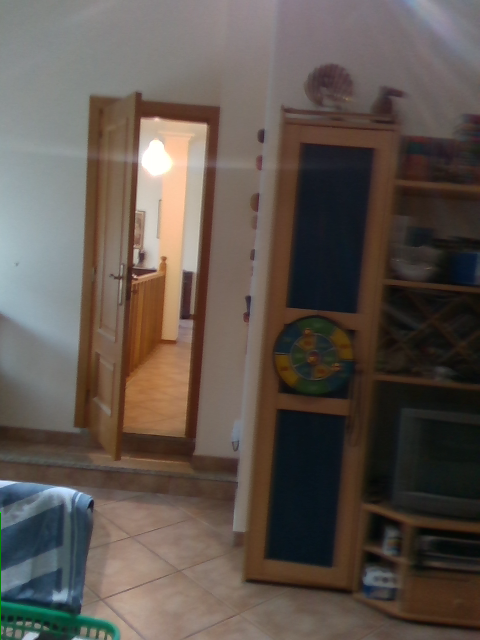semi: (75, 92, 217, 468)
